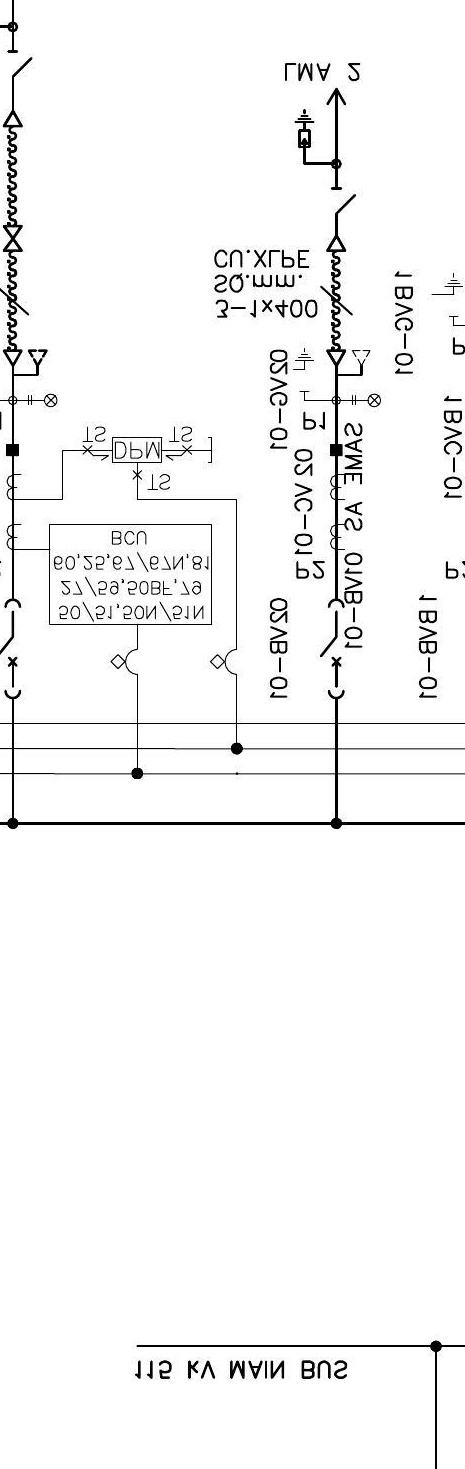22_breaker: (319, 598, 346, 700)
22_ds_la_out: (294, 87, 357, 215)
22_gs: (431, 273, 465, 319), (291, 348, 315, 393)
22_ll: (27, 393, 58, 408), (351, 393, 382, 408)
DPM: (110, 436, 164, 464)
terminator_single: (325, 234, 348, 253), (2, 110, 25, 129)
terminator_splicing_kits: (2, 225, 23, 253)
terminator_w_future: (2, 348, 49, 378), (325, 348, 372, 377)
